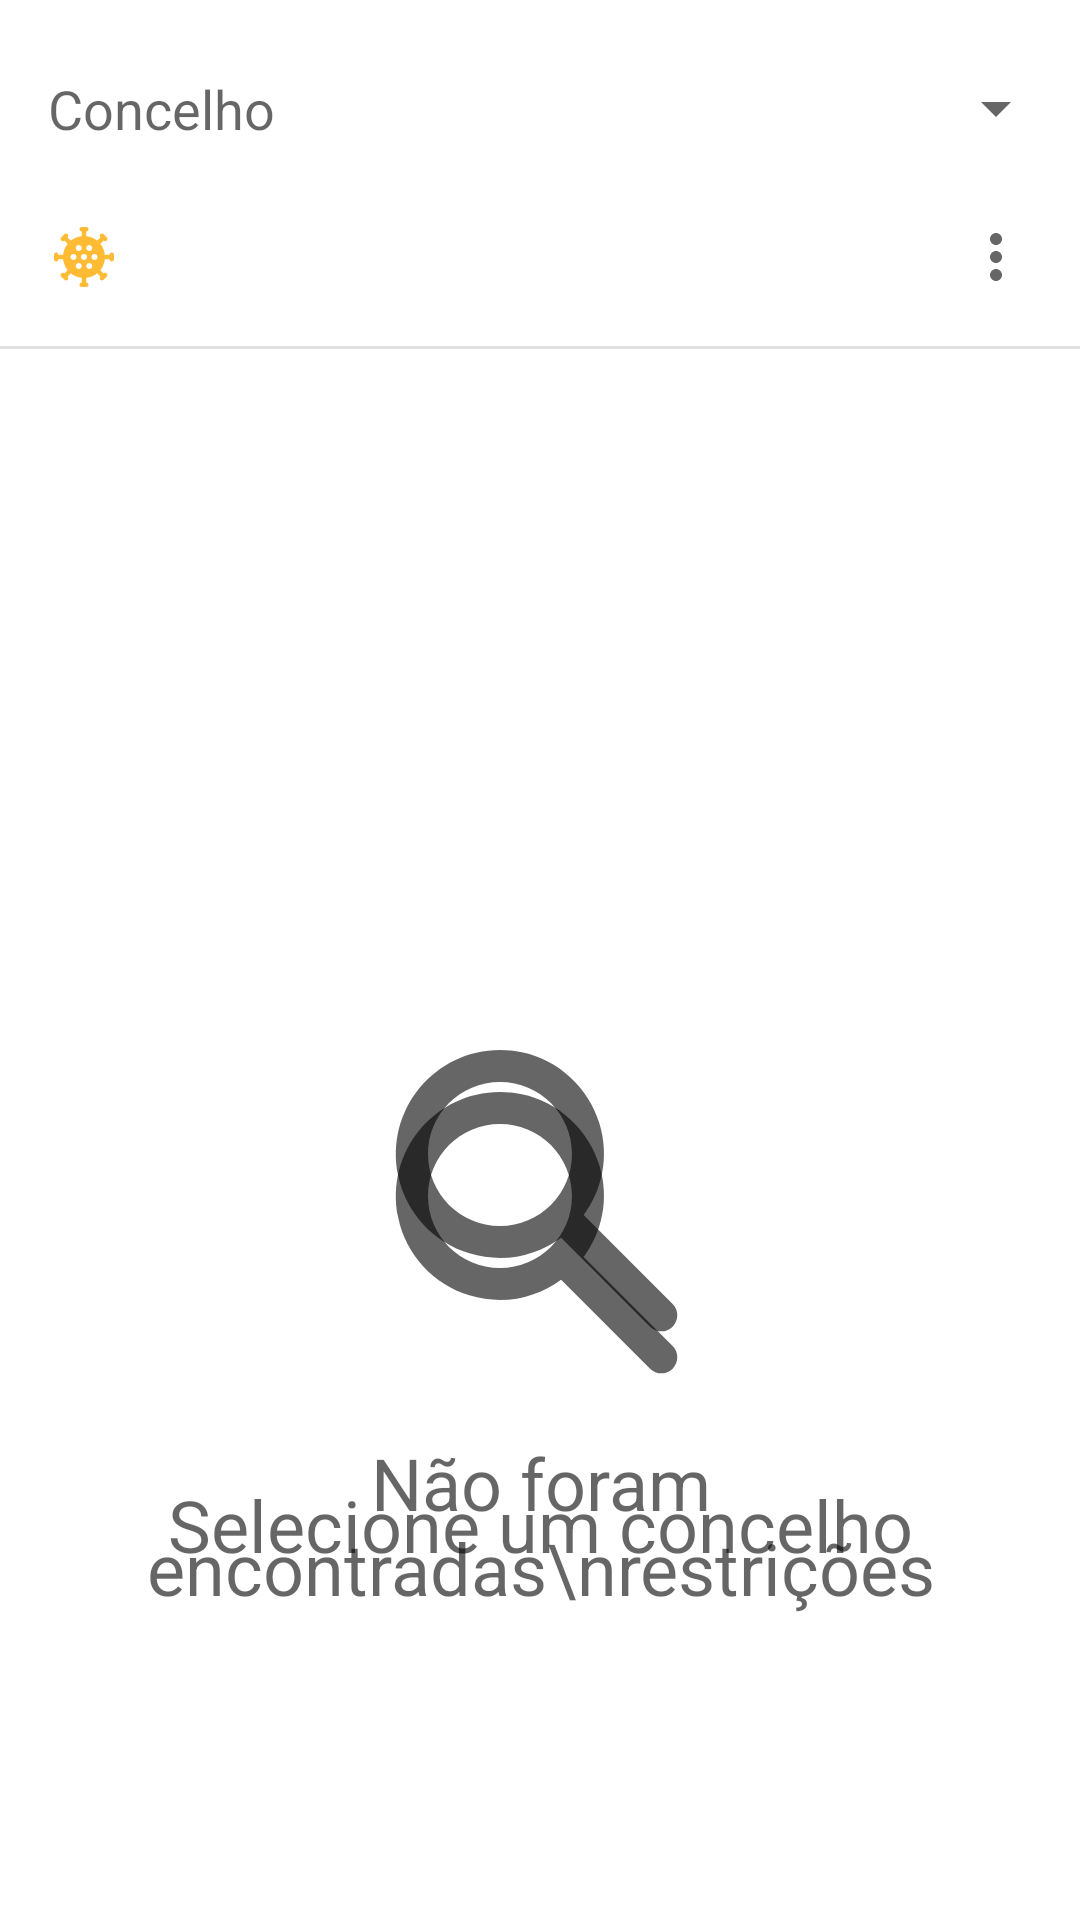

Point at icon controls on the screen. Image size 1080*1920, points as [x,y].
more: [996,257]
virus: [84,257]
